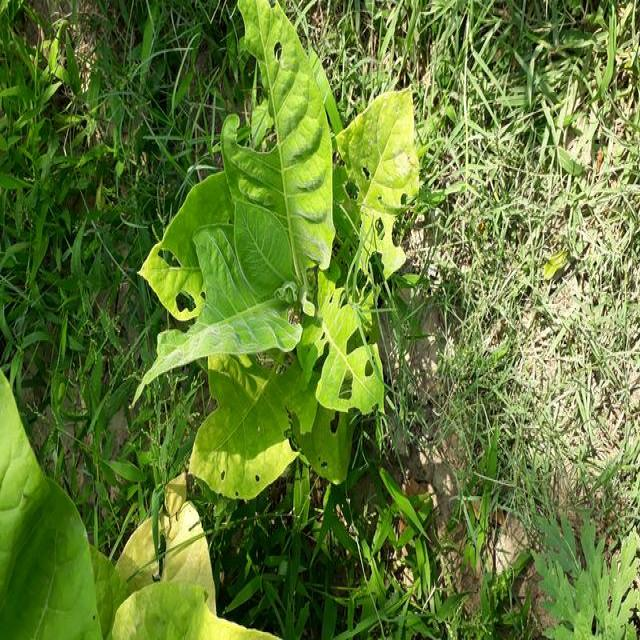crop: (138, 8, 415, 470), (0, 494, 218, 640)
